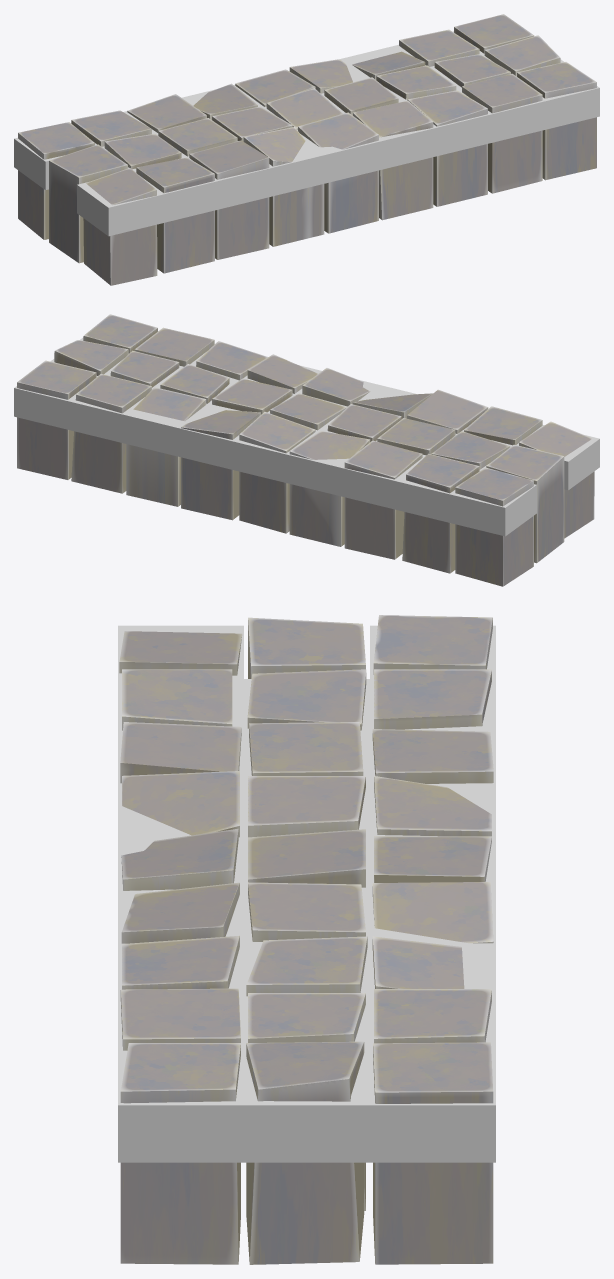
Rendered from GRID ALEX.fbx.
The picture shows the model from 3 angles, top to bottom: view 1: azimuth 30°, elevation 25°; view 2: azimuth 150°, elevation 25°; view 3: azimuth 270°, elevation 25°; orthographic projection. The views are drawn at different scales.
Visible parts, largest first — view 1: Cube.001, Cube.015, Cube.005, Cube.009, Cube.003, Cube.011, Cube.017, Cube.013, Cube.007, Cube.019, Cube.042, ALEX ELIMINA (+26 smaller); view 2: Cube.042, Cube.046, Cube.058, Cube.056, Cube.044, Cube.048, Cube.050, Cube.052, Cube.054, Cube.019, Cube.001, ALEX ELIMINA.041 (+26 smaller); view 3: Cube.058, Cube.017, Cube.040, ALEX ELIMINA.039, ALEX ELIMINA.016, ALEX ELIMINA.057, Cube.044, Cube.030, Cube.052, Cube.015, Cube.034, Cube.056 (+26 smaller).
Boxes of the visible parts, left/top/right/bottom form: Cube.001: left=83, top=168, right=157, bottom=285; Cube.015: left=462, top=73, right=542, bottom=193; Cube.005: left=189, top=140, right=269, bottom=259; Cube.009: left=298, top=112, right=378, bottom=233; Cube.003: left=136, top=157, right=214, bottom=273; Cube.011: left=353, top=100, right=433, bottom=220; Cube.017: left=517, top=62, right=596, bottom=180; Cube.013: left=407, top=90, right=487, bottom=206; Cube.007: left=243, top=127, right=324, bottom=246; Cube.019: left=49, top=144, right=127, bottom=263; Cube.042: left=18, top=122, right=94, bottom=239; ALEX ELIMINA: left=77, top=182, right=163, bottom=236; Cube.042: left=455, top=467, right=533, bottom=586; Cube.046: left=344, top=440, right=422, bottom=559; Cube.058: left=17, top=360, right=96, bottom=479; Cube.056: left=71, top=374, right=151, bottom=493; Cube.044: left=402, top=453, right=479, bottom=573; Cube.048: left=289, top=431, right=370, bottom=546; Cube.050: left=239, top=411, right=315, bottom=533; Cube.052: left=181, top=410, right=260, bottom=520; Cube.054: left=126, top=387, right=206, bottom=506; Cube.019: left=486, top=444, right=564, bottom=563; Cube.001: left=519, top=421, right=594, bottom=538; ALEX ELIMINA.041: left=450, top=484, right=536, bottom=536; Cube.058: left=373, top=1042, right=493, bottom=1264; Cube.017: left=120, top=1043, right=240, bottom=1264; Cube.040: left=246, top=1041, right=364, bottom=1264; ALEX ELIMINA.039: left=244, top=1052, right=369, bottom=1162; ALEX ELIMINA.016: left=118, top=1052, right=243, bottom=1162; ALEX ELIMINA.057: left=370, top=1052, right=495, bottom=1162; Cube.044: left=374, top=669, right=491, bottom=729; Cube.030: left=248, top=776, right=365, bottom=837; Cube.052: left=372, top=882, right=493, bottom=943; Cube.015: left=120, top=988, right=240, bottom=1050; Cube.034: left=248, top=882, right=365, bottom=941; Cube.056: left=374, top=989, right=491, bottom=1043.
Bounding box in the file's own units: 900 × 165 × 300.
